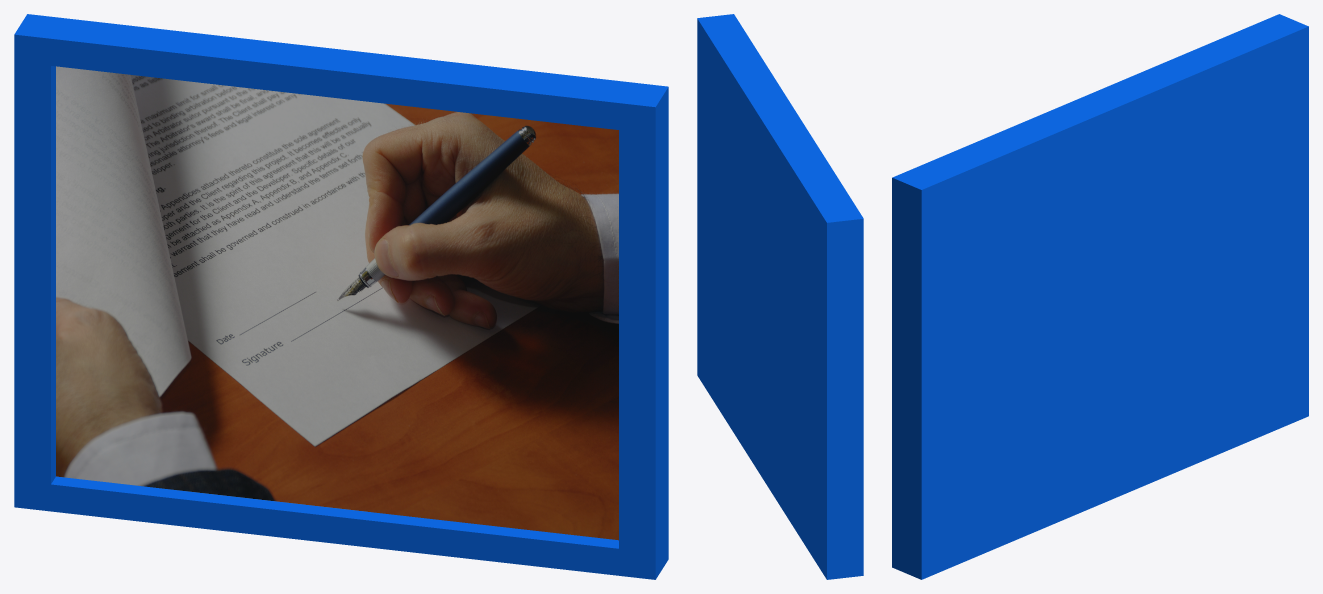
3 views of the same model, side by side, from view 1: azimuth 30°, elevation 25°; view 2: azimuth 150°, elevation 25°; view 3: azimuth 270°, elevation 25° (orthographic). The views are drawn at different scales.
Parts seen in each view (by area): view 1: Cube.017; view 2: Cube.017; view 3: Cube.017.
Boxes of the visible parts, x1,y1,x2,y2 form: Cube.017: (14,14,668,579); Cube.017: (697,14,863,579); Cube.017: (892,14,1308,579).
Size of the model in its own units: 0.3419 by 0.353 by 0.3419.
Materials: 2 (2 with a texture image).
